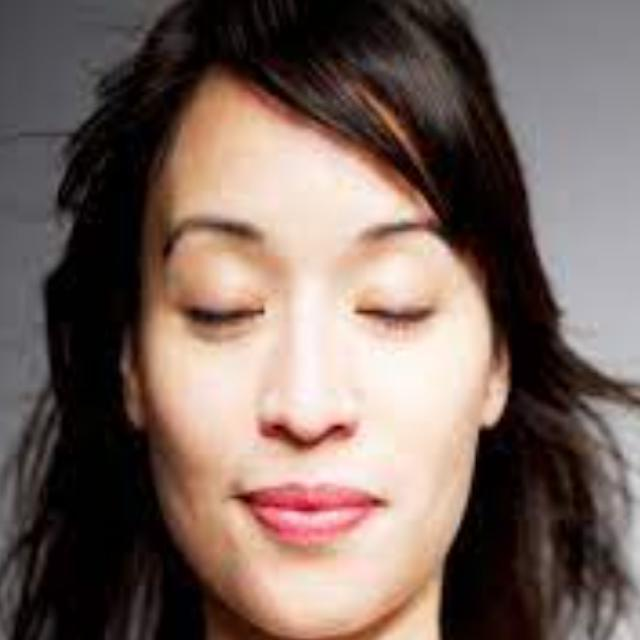close: (335, 204, 481, 347), (154, 208, 278, 347)
